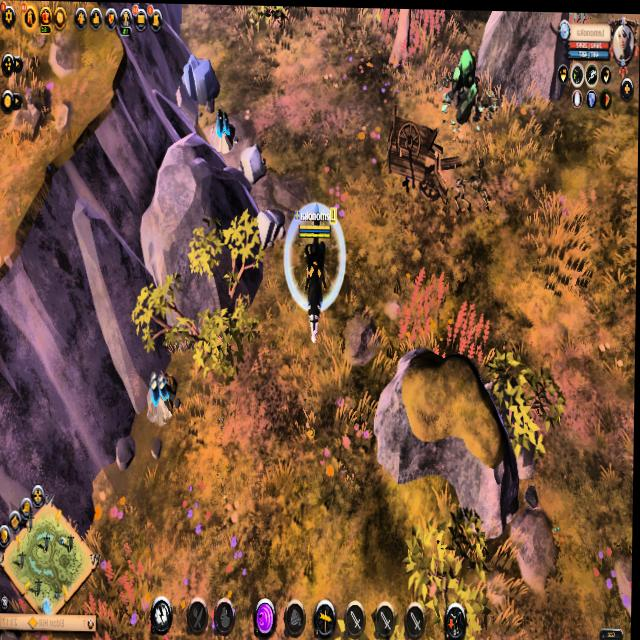ore tier 4: (146, 366, 179, 429), (207, 106, 239, 154)
rock tier 1: (254, 204, 287, 252), (237, 140, 269, 187)
rock tier 4: (179, 51, 220, 112)
